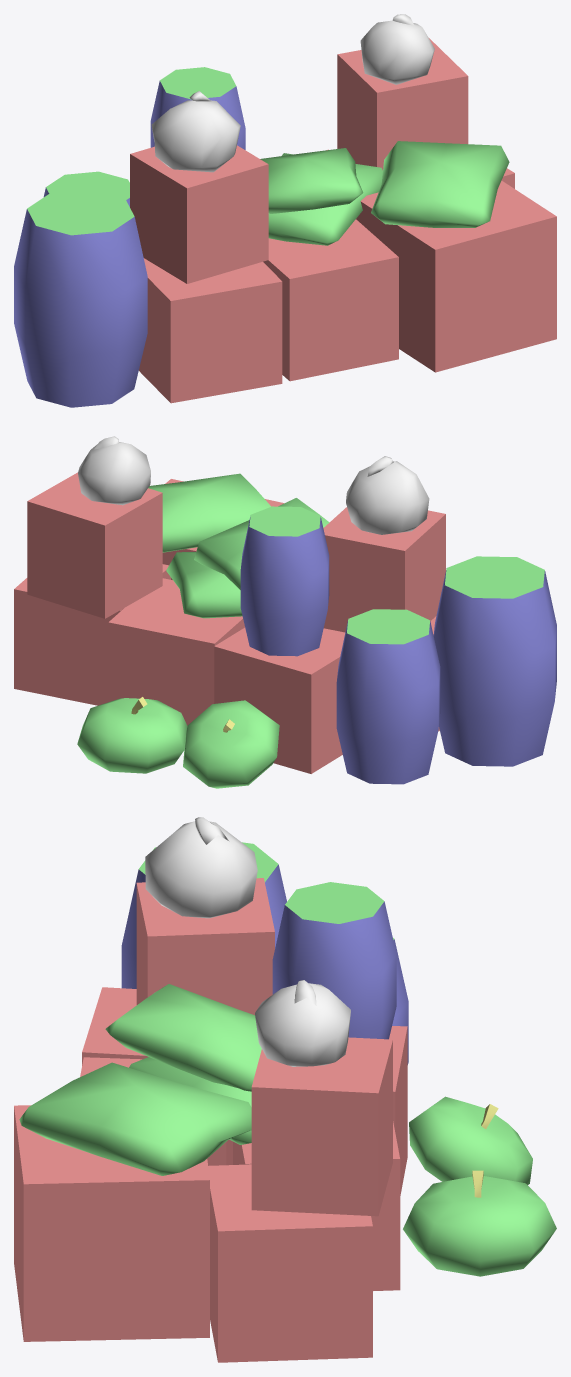
The model's file is Godard_Village_S__godard_obj_box_B.gltf.
3 views of the same model, one above another, from view 1: azimuth 30°, elevation 25°; view 2: azimuth 150°, elevation 25°; view 3: azimuth 270°, elevation 25° (orthographic). The views are drawn at different scales.
Parts seen in each view (by area): view 1: godard_obj_box_B; view 2: godard_obj_box_B; view 3: godard_obj_box_B.
Boxes of the visible parts, x1,y1,x2,y2 form: godard_obj_box_B: (14,14,556,407); godard_obj_box_B: (14,436,556,788); godard_obj_box_B: (14,817,556,1362).
Bounding box in the file's own units: 1.15 × 0.5927 × 0.845.
